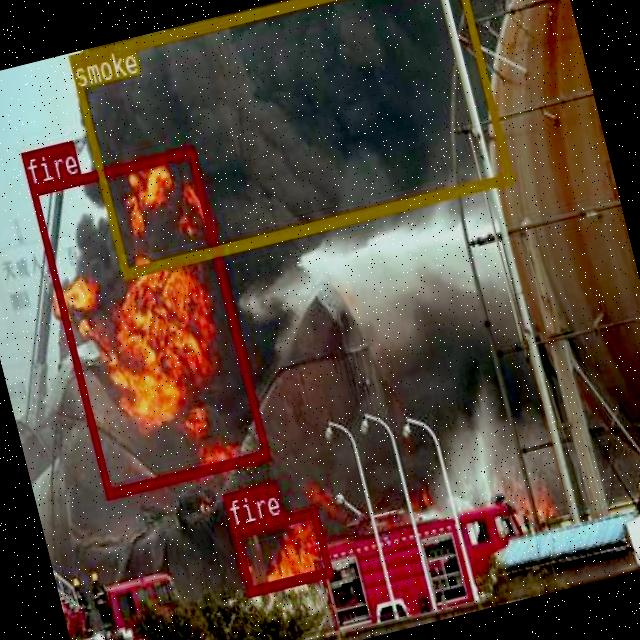fire: (28, 144, 269, 496), (231, 506, 332, 596)
smoke: (67, 0, 511, 277)
